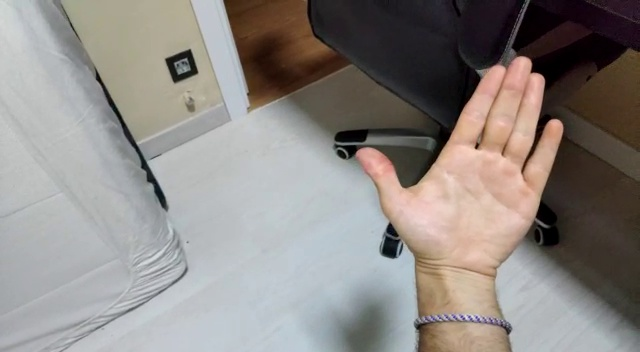Palm: (352, 52, 567, 278)
